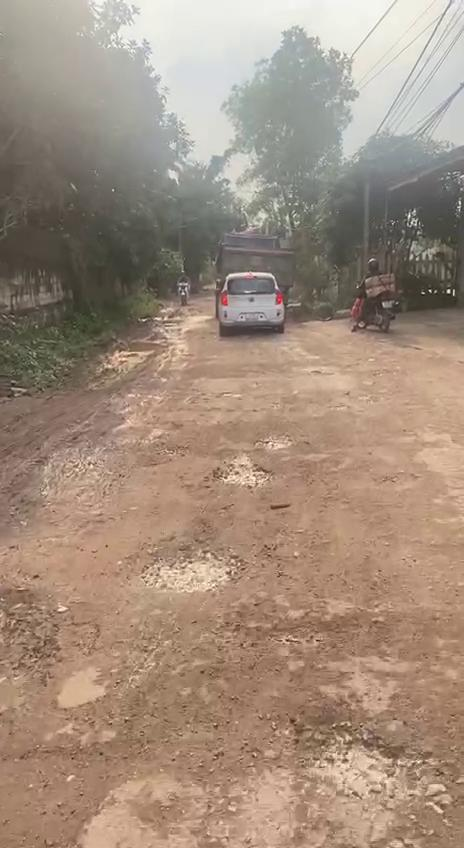pothole: (301, 722, 464, 848), (0, 596, 76, 694), (132, 546, 246, 592), (210, 460, 274, 488), (253, 430, 295, 451)
